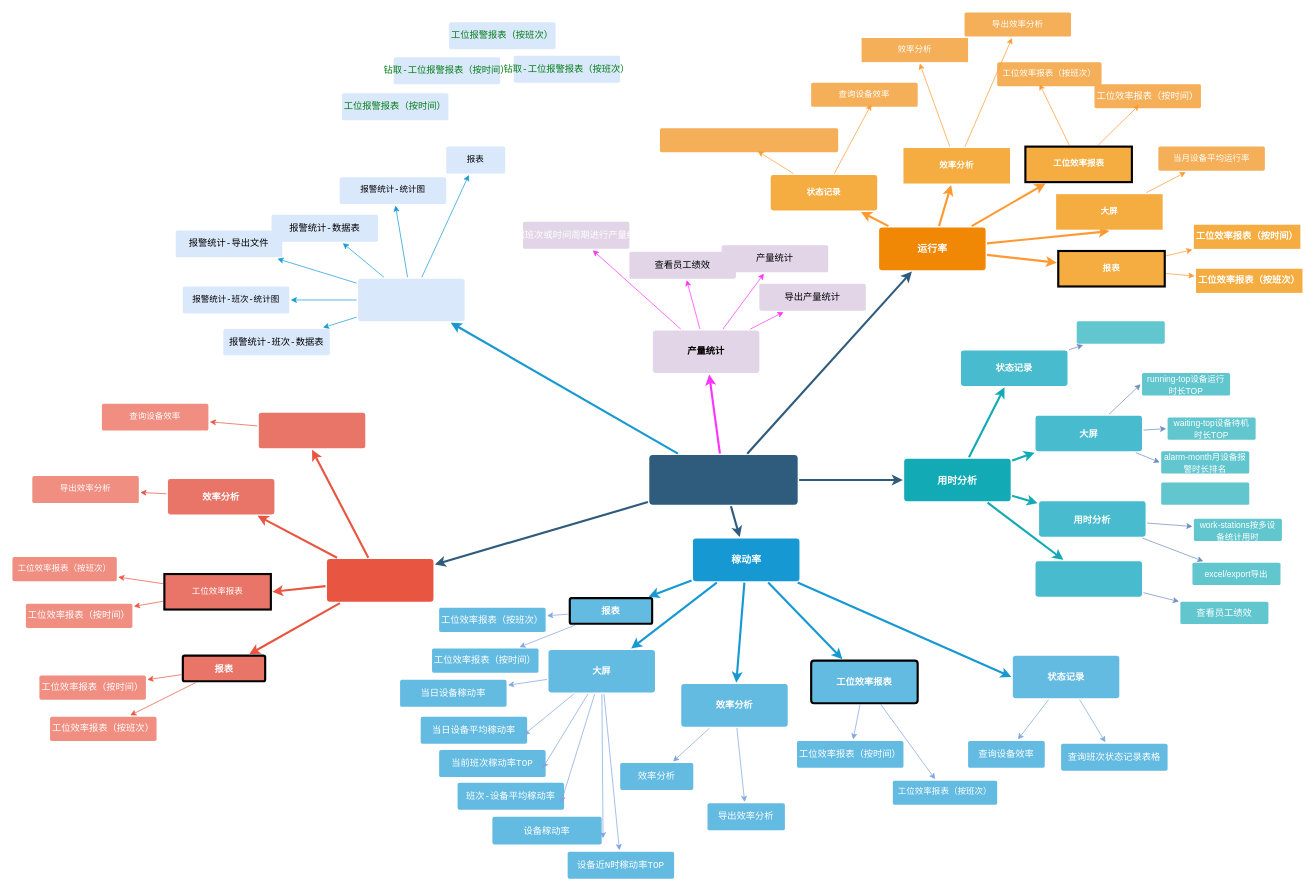
This 1314x892 diagram has some shape labels left out. The shapes that lost their labels are listed below. From the top down, each one's centre as x and y in pixels, then its label:
the point at 749,140: 查询班次状态记录表格（里面有运行率）
the point at 411,299: 报警统计
the point at 1120,332: time-distribution用时分析情况布
the point at 311,430: 状态统计
the point at 723,479: 调整接口
the point at 1205,493: alarm-week周设备报警时长排名
the point at 380,580: 报警率
the point at 1088,578: 员工绩效
